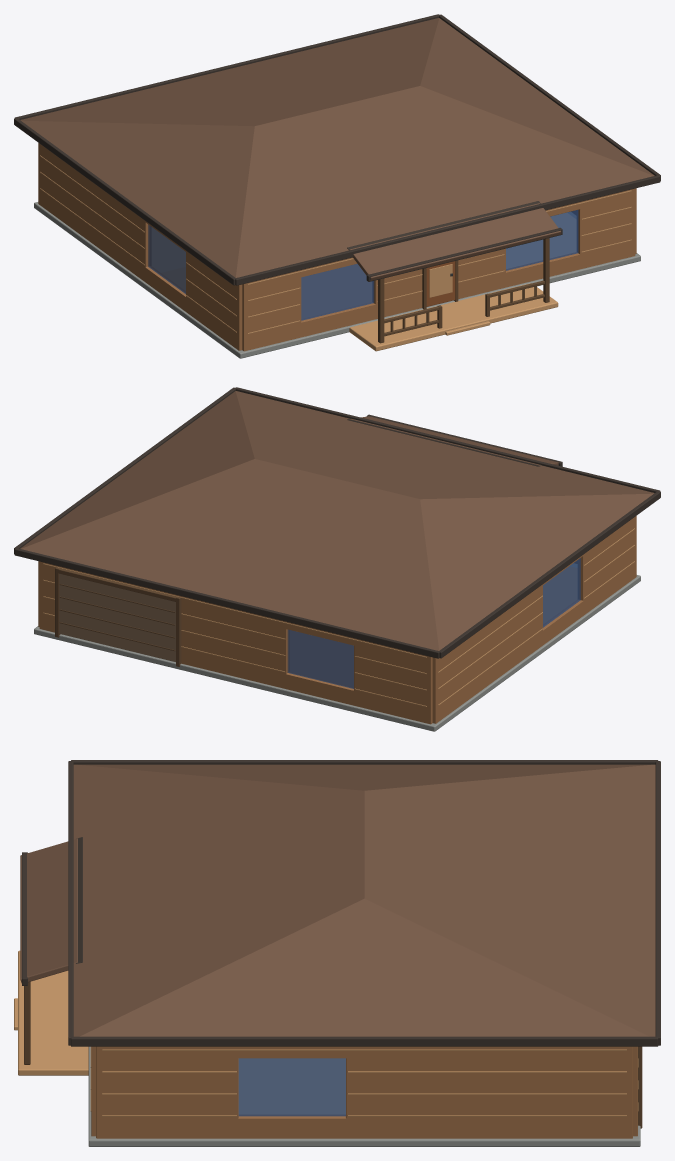
File: CanadaRuralHouse.glb
The picture shows the model from 3 angles, top to bottom: view 1: azimuth 30°, elevation 25°; view 2: azimuth 150°, elevation 25°; view 3: azimuth 270°, elevation 25°; orthographic projection. The views are drawn at different scales.
Visible parts, largest first — view 1: RoofStatic_Mesh, BuildingStatic_Mesh, DoorFront_Mesh; view 2: RoofStatic_Mesh, BuildingStatic_Mesh, GarageDoor_Mesh; view 3: RoofStatic_Mesh, BuildingStatic_Mesh.
Boxes of the visible parts, x1,y1,x2,y2 form: RoofStatic_Mesh: [14, 14, 660, 285]; BuildingStatic_Mesh: [34, 143, 640, 358]; DoorFront_Mesh: [426, 261, 455, 306]; RoofStatic_Mesh: [14, 387, 660, 658]; BuildingStatic_Mesh: [34, 516, 640, 731]; GarageDoor_Mesh: [59, 573, 175, 661]; RoofStatic_Mesh: [20, 760, 660, 1046]; BuildingStatic_Mesh: [14, 950, 642, 1146].
Size of the model in its own units: 19.66 by 5.65 by 19.27.
